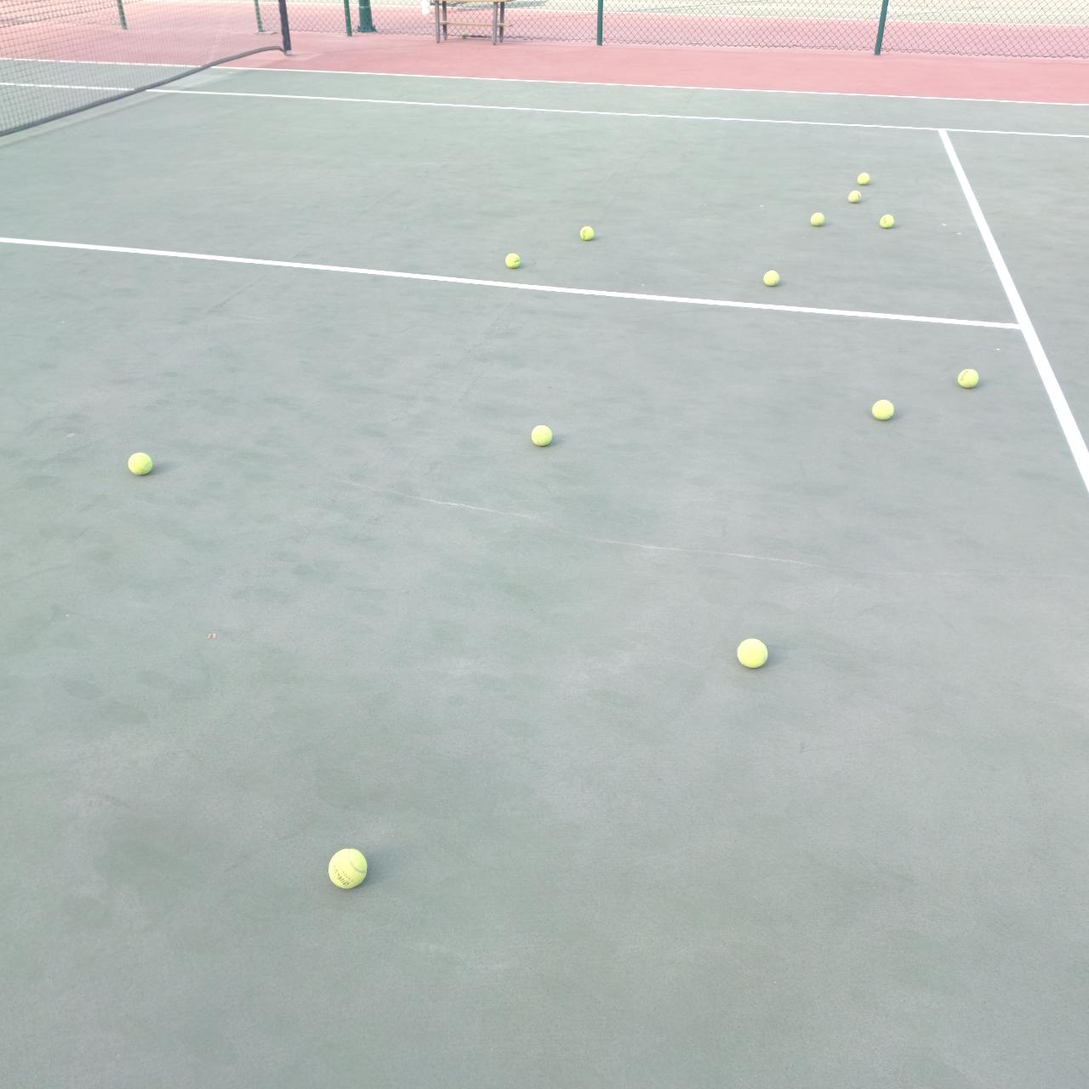tennis-ball: (326, 845, 368, 889), (734, 636, 768, 669), (125, 449, 152, 476), (870, 396, 894, 421), (529, 422, 552, 447), (955, 366, 978, 389), (761, 267, 780, 287), (503, 250, 521, 269), (578, 224, 595, 240), (808, 210, 825, 226), (878, 212, 894, 228), (855, 170, 870, 185), (847, 188, 861, 203)
